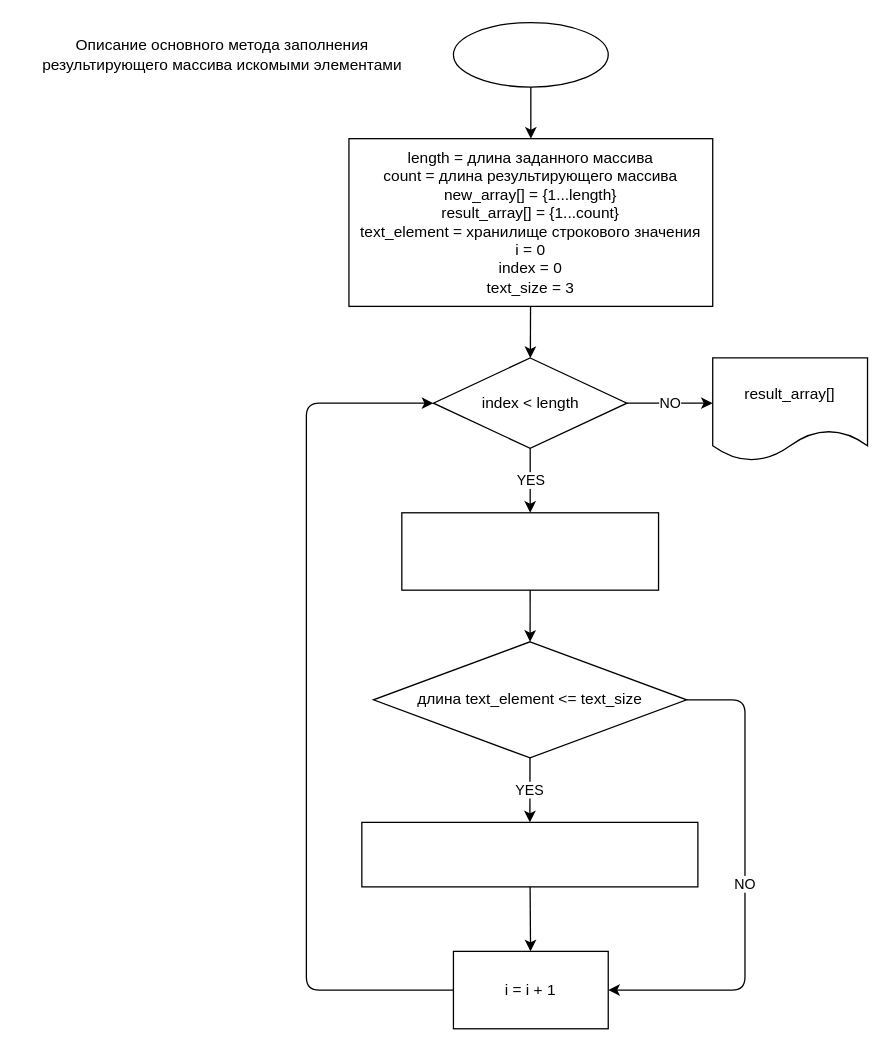
Some shapes in this 890 by 1051 pixel diagram are drawn without their labels. The centre of each missing label's shape, as x and y in pixels:
"result_array[ result_index ] = new_array[index] index = index + 1" belongs at point 529,854.
"START" belongs at point 530,54.
"text_element = new_array[index]" belongs at point 530,550.
